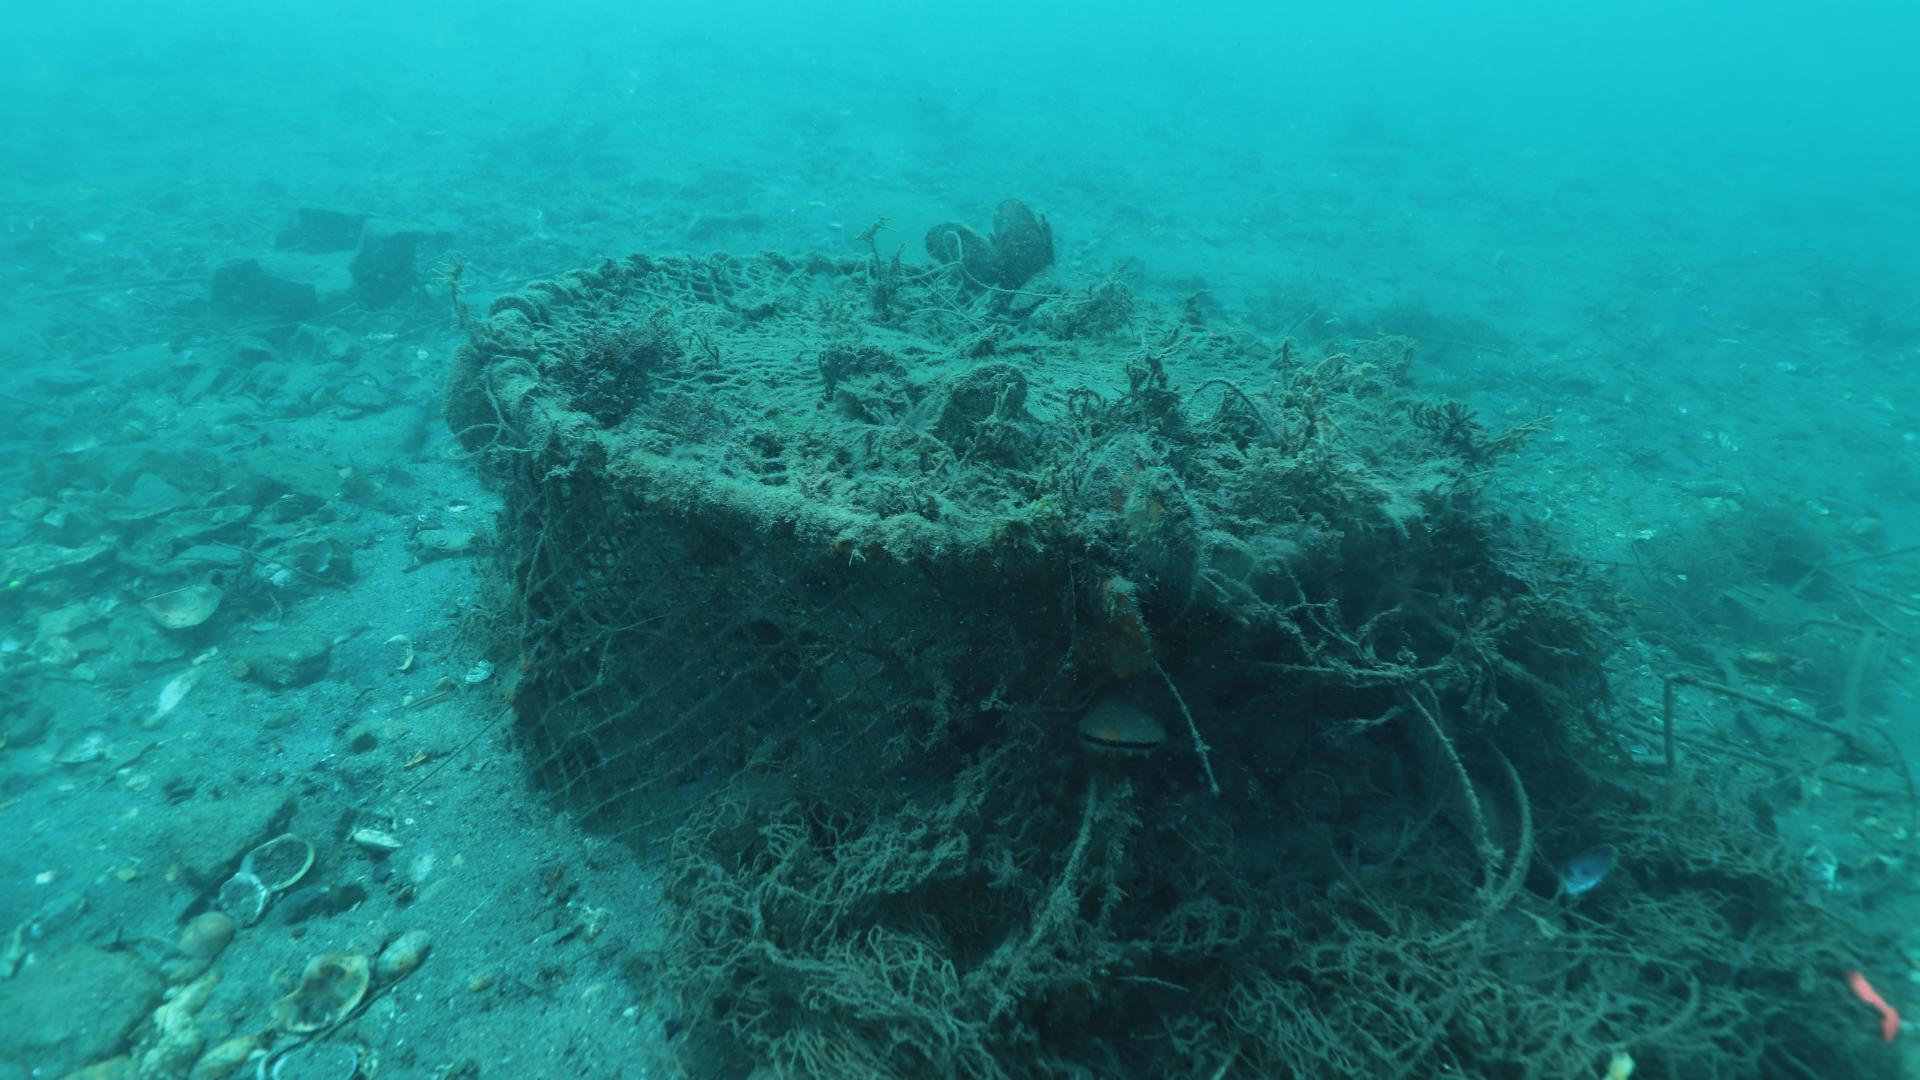circular fish trap: (472, 245, 1487, 887)
